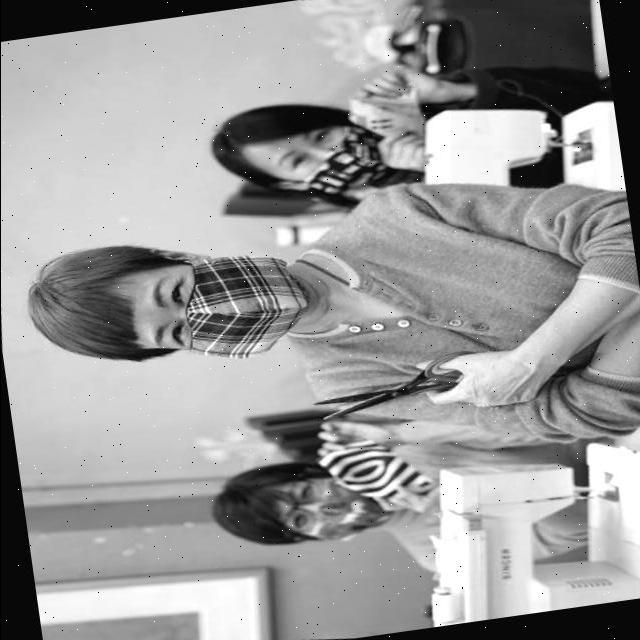mask: (189, 256, 302, 356), (307, 132, 373, 206), (308, 484, 384, 540)
no_apron: (413, 346, 550, 409), (363, 65, 470, 101), (366, 126, 432, 168)
no_gloves: (28, 231, 132, 367), (202, 104, 292, 188), (210, 464, 286, 548)
